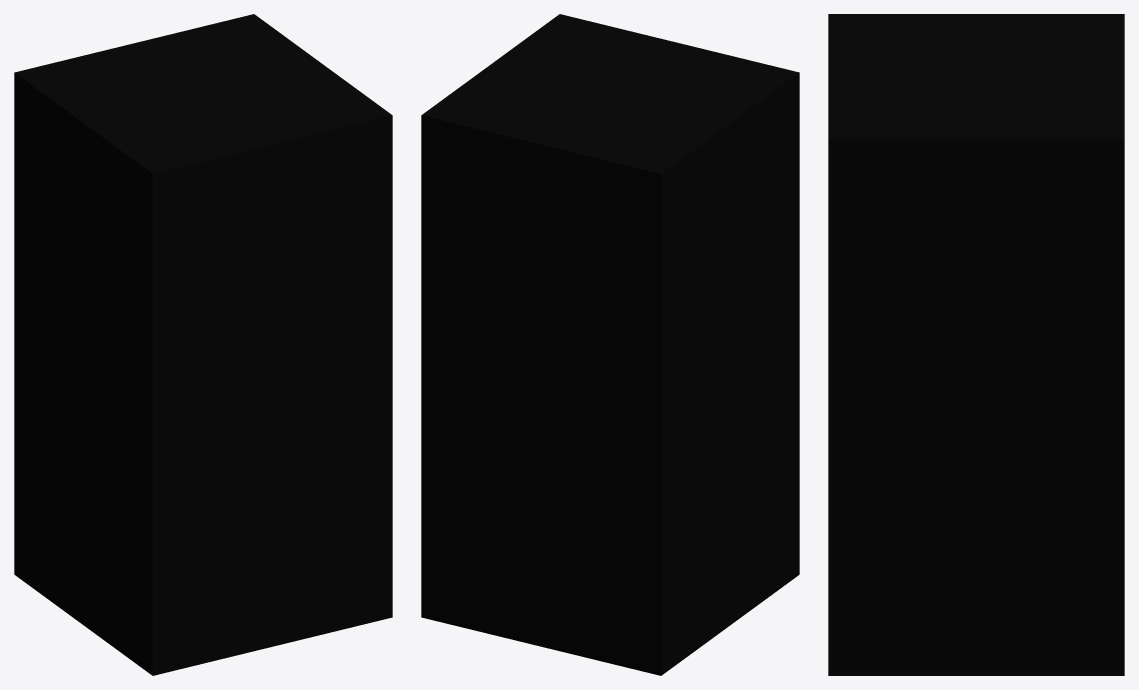
Rendered from JobOffice_Screen_03.glb.
3 renders of one model, left to right at view 1: azimuth 30°, elevation 25°; view 2: azimuth 150°, elevation 25°; view 3: azimuth 270°, elevation 25°, orthographic. The views are drawn at different scales.
Parts seen in each view (by area): view 1: GameObject; view 2: GameObject; view 3: GameObject.
Part boxes in pixels (left/top/right/bottom): GameObject: left=14, top=14, right=392, bottom=675; GameObject: left=421, top=14, right=799, bottom=675; GameObject: left=828, top=14, right=1124, bottom=675.
Size of the model in its own units: 1 by 2 by 1.
2 materials, 2 textured.
